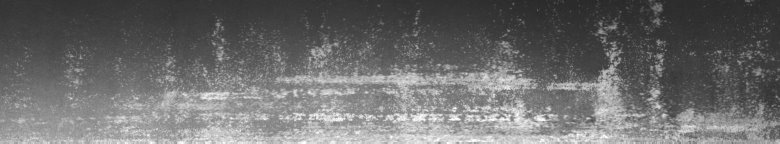kb: (159, 4, 776, 136)
